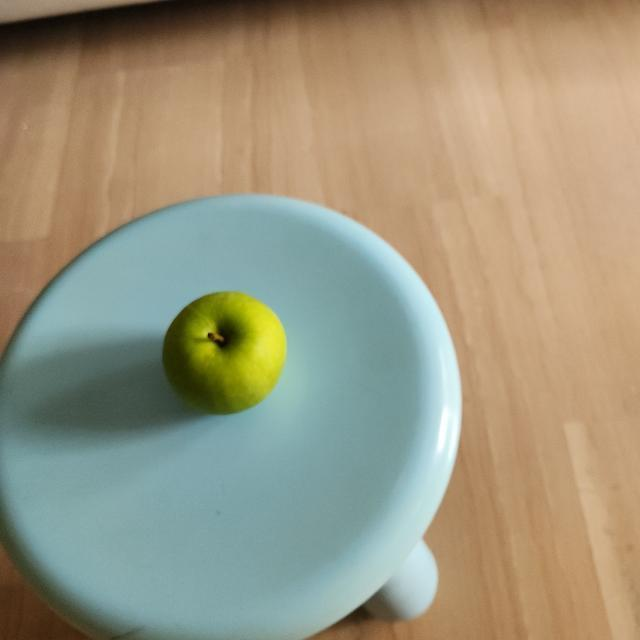apple: (158, 286, 289, 424)
